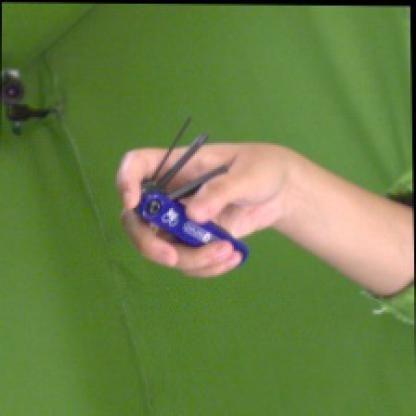Hand: (116, 141, 293, 279)
